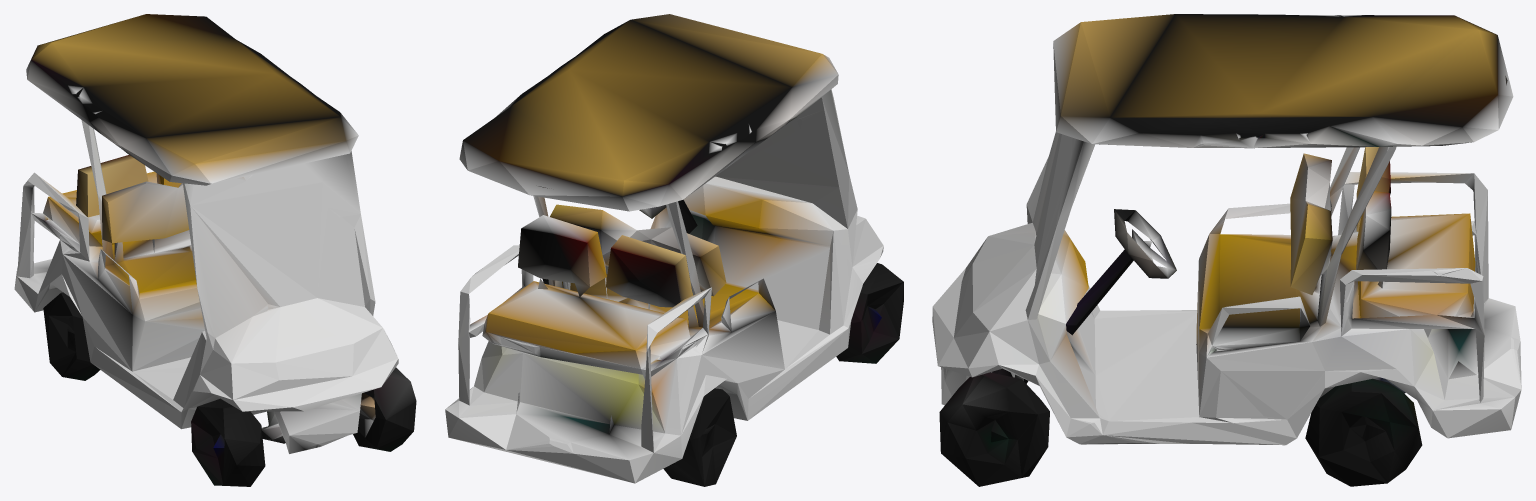
The model's file is golf-cart.glb.
3 renders of one model, left to right at view 1: azimuth 30°, elevation 25°; view 2: azimuth 150°, elevation 25°; view 3: azimuth 270°, elevation 25°, orthographic. The views are drawn at different scales.
Parts seen in each view (by area): view 1: geometry_0; view 2: geometry_0; view 3: geometry_0.
Part boxes in pixels (bbox=[...]): geometry_0: bbox=[14, 14, 416, 486]; geometry_0: bbox=[445, 14, 903, 486]; geometry_0: bbox=[932, 14, 1521, 486].
Size of the model in its own units: 0.9528 by 1.37 by 1.99.
